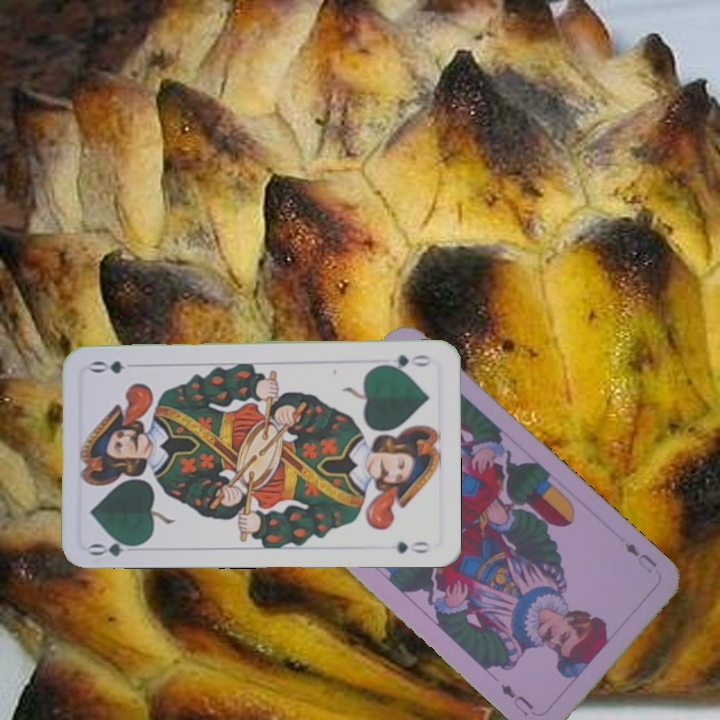EU: (620, 537, 660, 576)
GO: (86, 533, 145, 559), (375, 350, 434, 373)
